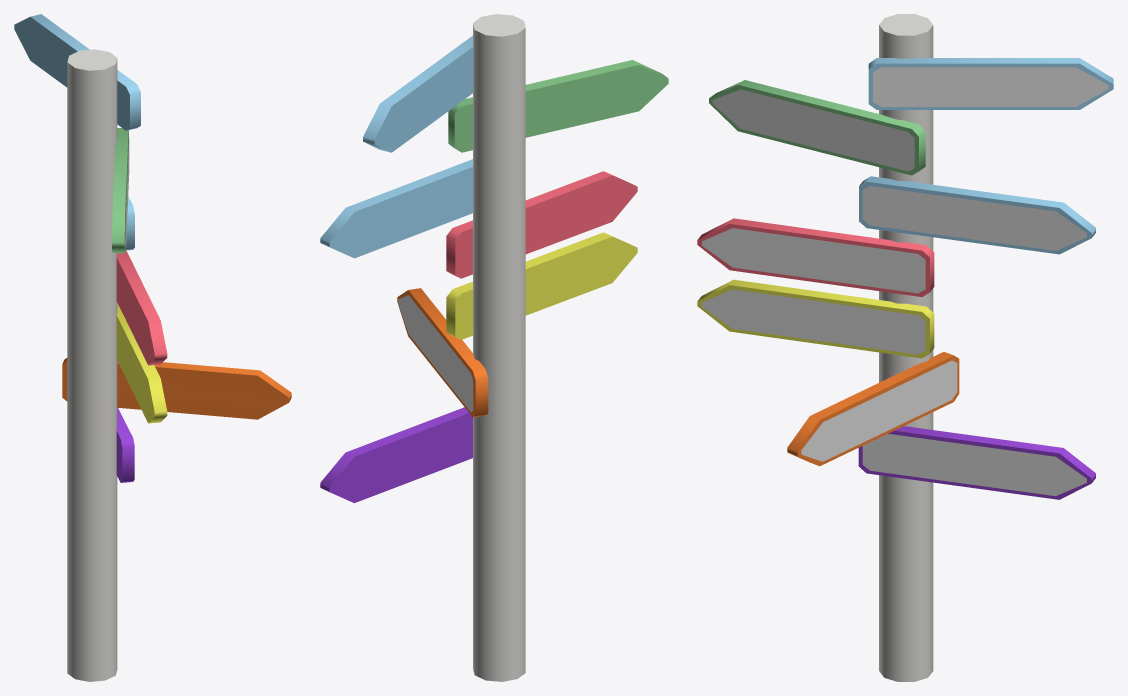
File: Sign.fbx
3 views of the same model, side by side, from view 1: azimuth 30°, elevation 25°; view 2: azimuth 150°, elevation 25°; view 3: azimuth 270°, elevation 25° (orthographic). The views are drawn at different scales.
Parts seen in each view (by area): view 1: Sign, SignPiece6, SignPiece1, SignPiece4, SignPiece4.001, SignPiece2, SignPiece7; view 2: Sign, SignPiece2, SignPiece3, SignPiece7, SignPiece4, SignPiece4.001, SignPiece1, SignPiece6; view 3: Sign, SignPiece1, SignPiece4, SignPiece4.001, SignPiece3, SignPiece7, SignPiece2, SignPiece6.
Boxes of the visible parts, box(x1,y1,x2,y2) form: Sign: box(67, 49, 117, 681); SignPiece6: box(62, 358, 291, 419); SignPiece1: box(14, 14, 140, 130); SignPiece4: box(116, 250, 167, 365); SignPiece4.001: box(116, 303, 167, 423); SignPiece2: box(112, 128, 129, 253); SignPiece7: box(116, 407, 134, 482); Sign: box(473, 14, 525, 681); SignPiece2: box(448, 60, 668, 152); SignPiece3: box(320, 159, 472, 258); SignPiece7: box(320, 407, 472, 503); SignPiece4: box(446, 171, 637, 278); SignPiece4.001: box(446, 232, 637, 339); SignPiece1: box(363, 35, 473, 152); SignPiece6: box(397, 288, 488, 417); Sign: box(879, 14, 933, 681); SignPiece1: box(868, 58, 1113, 109); SignPiece4: box(697, 218, 934, 296); SignPiece4.001: box(697, 279, 934, 358); SignPiece3: box(859, 176, 1095, 254); SignPiece7: box(858, 426, 1095, 499); SignPiece2: box(709, 80, 925, 175); SignPiece6: box(787, 352, 959, 466).
Size of the model in its own units: 98.54 by 263 by 154.
